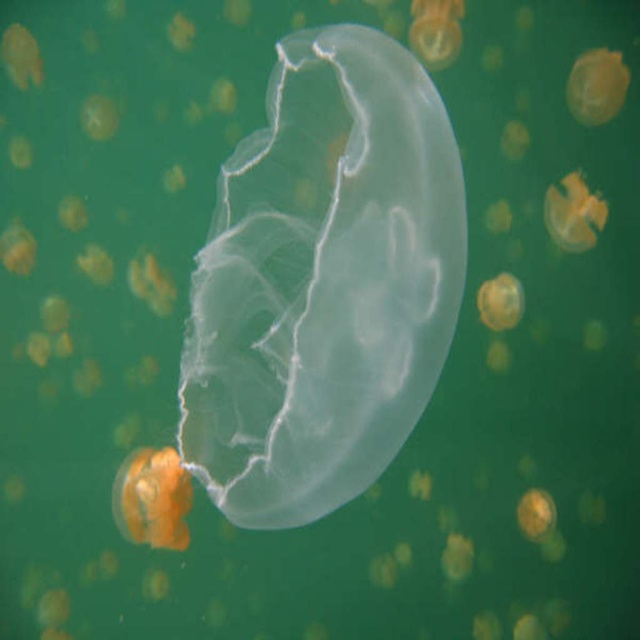Jellyfish: (165, 18, 469, 529), (111, 442, 198, 560), (538, 165, 612, 255), (565, 46, 629, 128), (406, 0, 466, 74), (477, 273, 526, 336), (521, 485, 556, 548)
